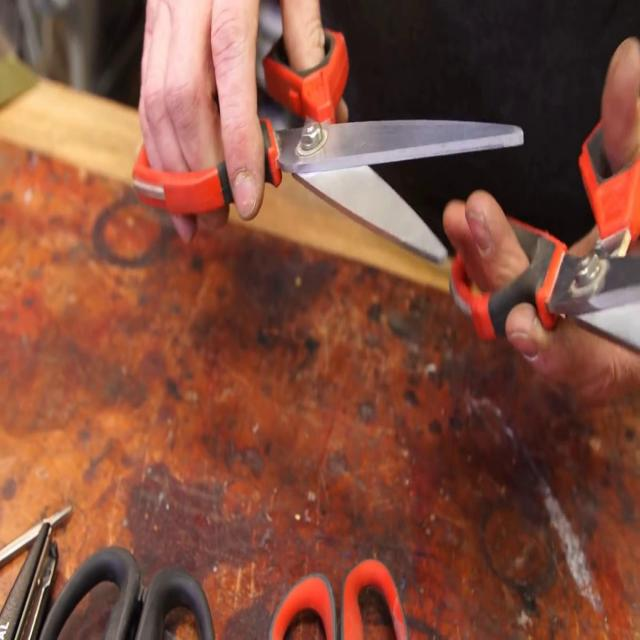scissor: (133, 25, 525, 263), (449, 118, 640, 342)
